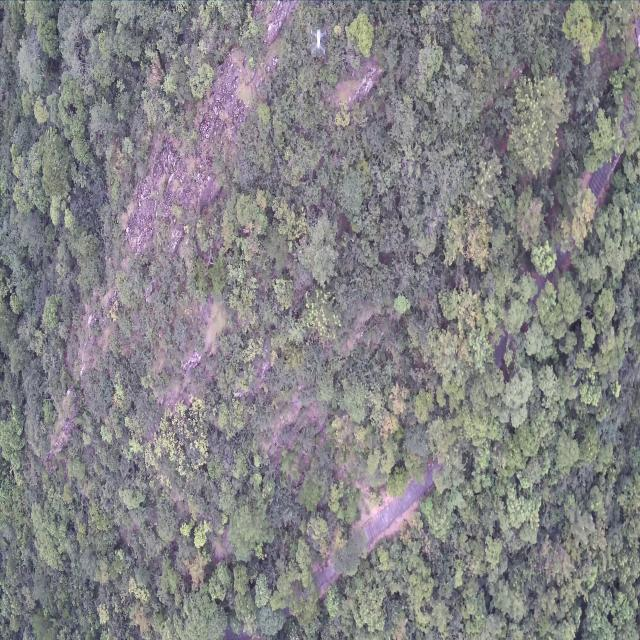UAV: (309, 27, 328, 54)
